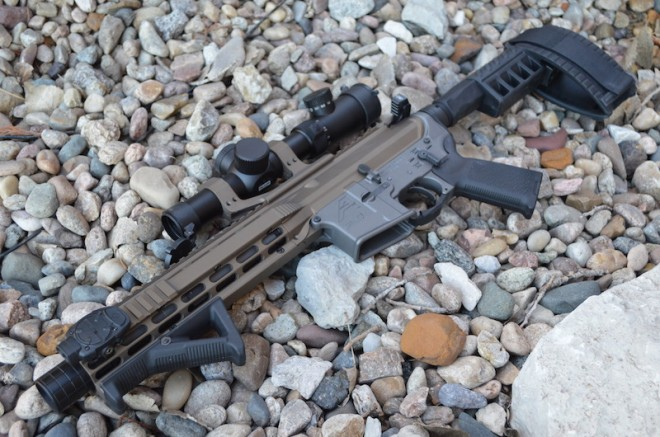Rifle: (28, 26, 638, 417)
